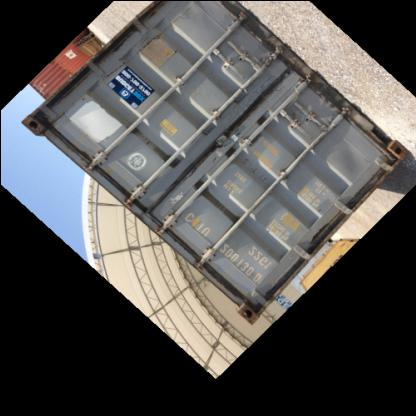Damage: (130, 28, 180, 72), (309, 78, 350, 124), (130, 127, 170, 167), (236, 293, 268, 325), (239, 156, 271, 188), (21, 110, 52, 139), (67, 146, 102, 167)
